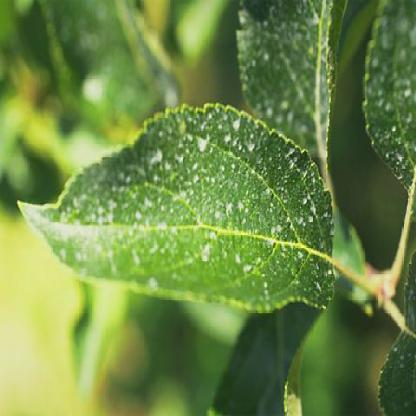apple scab leaf: (14, 98, 354, 321)
